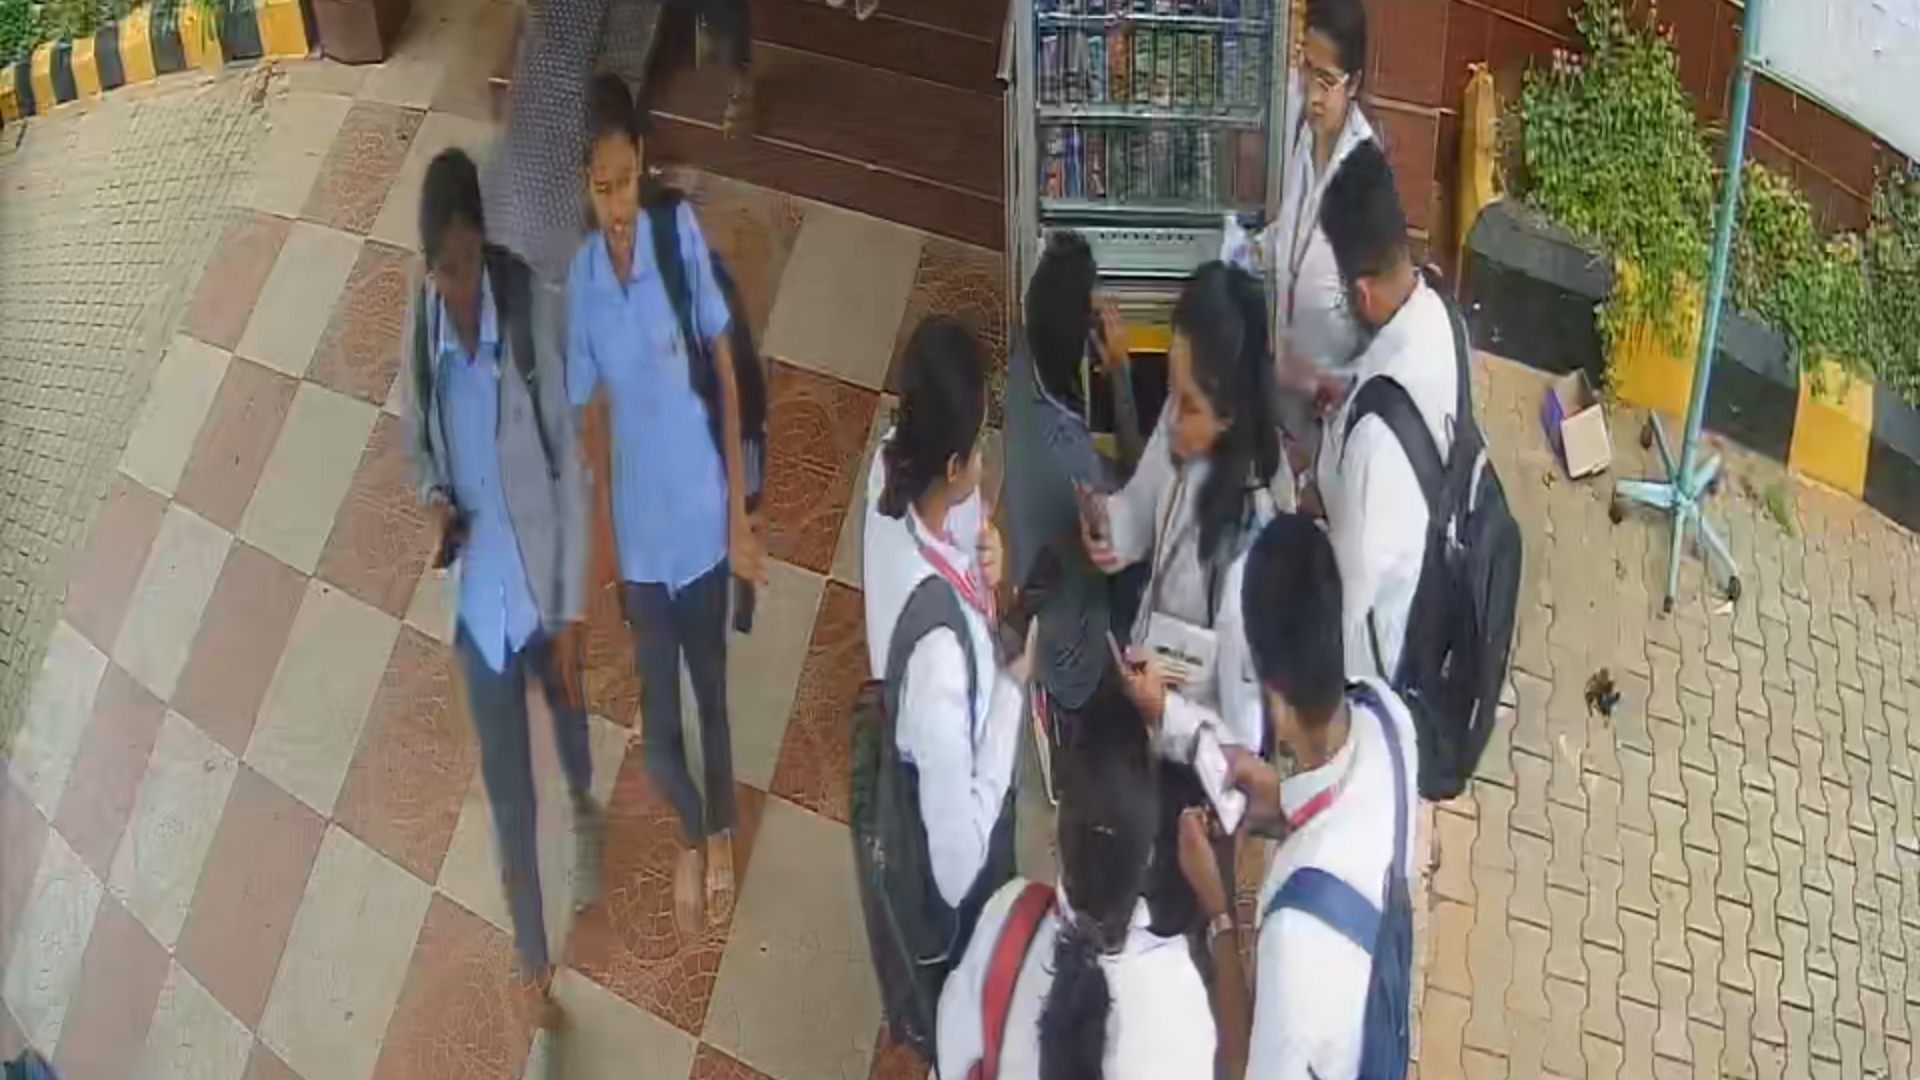intruder: (392, 146, 621, 1069), (564, 65, 785, 890)
